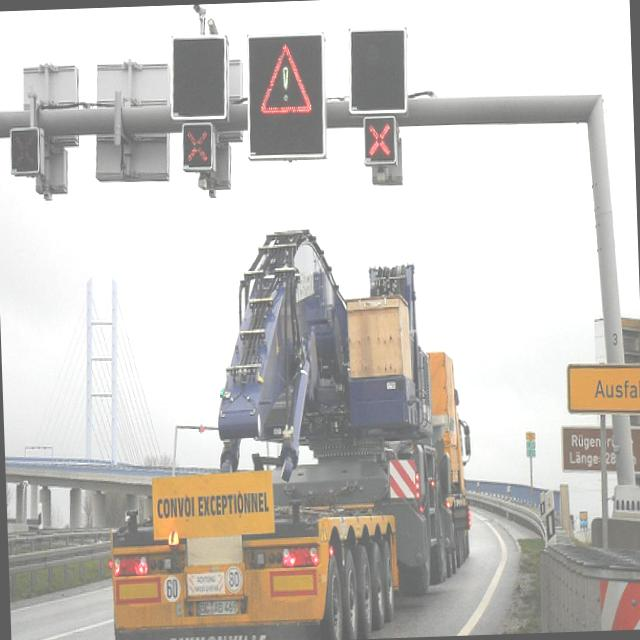Vehicle: (100, 223, 476, 640)
